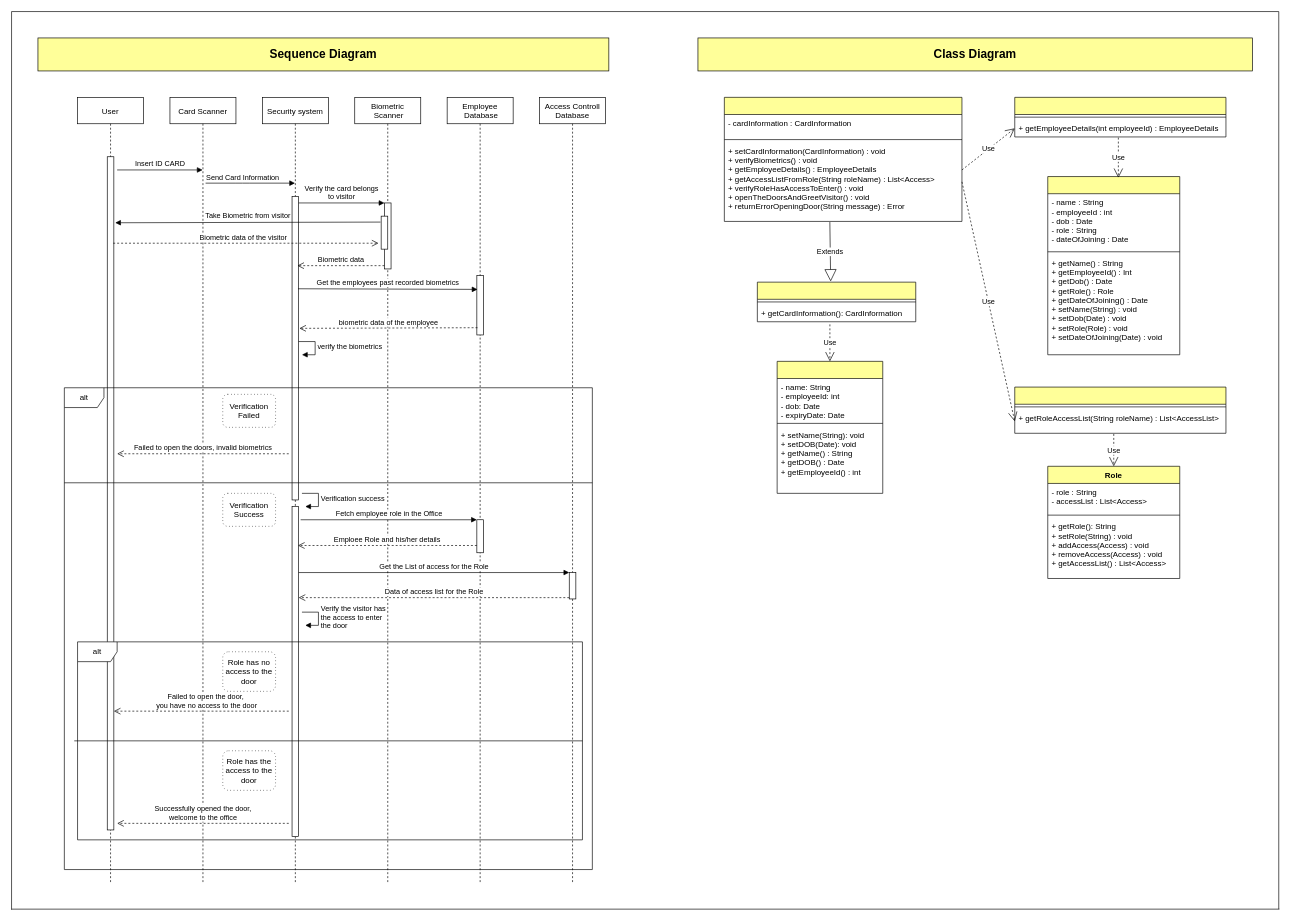
Some shapes in this 1292 by 922 pixel diagram are drawn without their labels. The shapes that lost their labels are listed below. From the top down, each one's box as (x1, y1, x2, y2) in pixels, then its label:
(1014, 97, 1226, 137): EmployeeDatabase
(724, 97, 962, 221): SecuritySystem
(1047, 176, 1180, 355): EmployeeDetails
(757, 281, 916, 322): CardScanner
(776, 361, 883, 493): CardInformation
(1014, 386, 1226, 433): AccessControllDatabase
